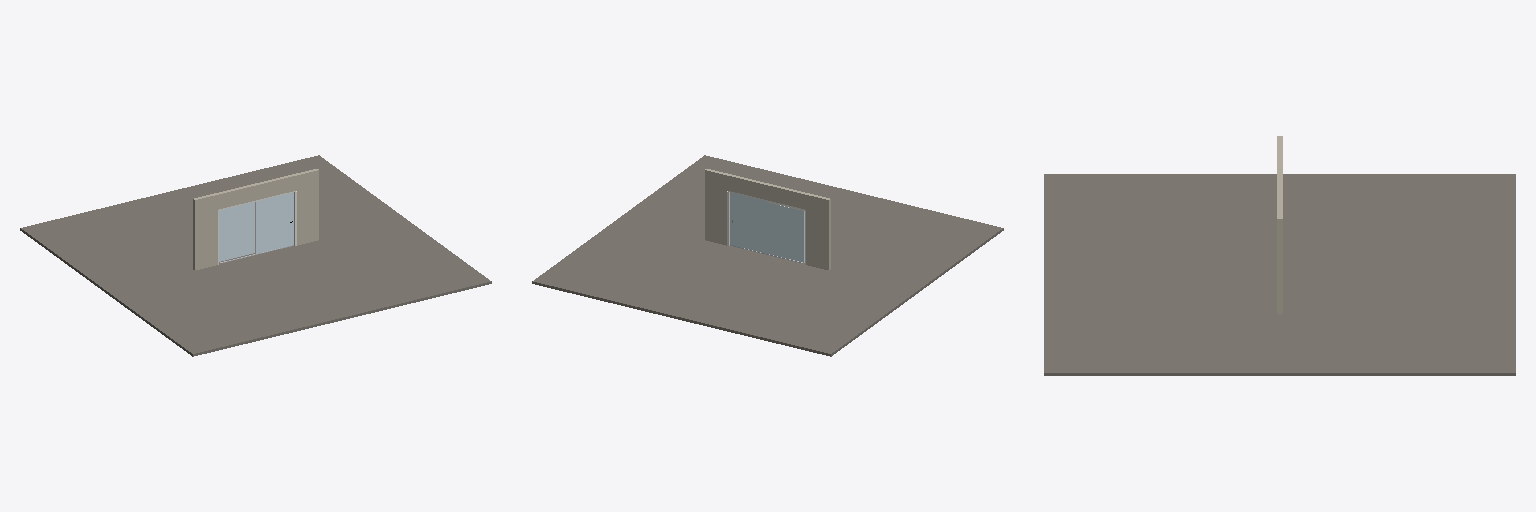
The robot description file, URDF, robot "db0620_sliding_single_minimal":
<?xml version="1.0" ?>
<robot xmlns:doorbench="https://github.com/adamraudonis/DoorBench/schema/urdf-ext" name="db0620_sliding_single_minimal">
  <link name="world_env">
    <visual name="floor_vis">
      <origin xyz="0 0 -0.05" rpy="0 0 0"/>
      <geometry>
        <box size="12 12 0.1"/>
      </geometry>
      <material name="mat_floor"/>
    </visual>
    <collision name="floor_col">
      <origin xyz="0 0 -0.05" rpy="0 0 0"/>
      <geometry>
        <box size="12 12 0.1"/>
      </geometry>
    </collision>
    <visual name="wall_left_vis">
      <origin xyz="-2.0275 0 1.35" rpy="0 0 0"/>
      <geometry>
        <box size="0.945 0.145 2.7"/>
      </geometry>
      <material name="mat_wall"/>
    </visual>
    <collision name="wall_left_col">
      <origin xyz="-2.0275 0 1.35" rpy="0 0 0"/>
      <geometry>
        <box size="0.945 0.145 2.7"/>
      </geometry>
    </collision>
    <visual name="wall_right_vis">
      <origin xyz="2.0575 0 1.35" rpy="0 0 0"/>
      <geometry>
        <box size="0.885 0.145 2.7"/>
      </geometry>
      <material name="mat_wall"/>
    </visual>
    <collision name="wall_right_col">
      <origin xyz="2.0575 0 1.35" rpy="0 0 0"/>
      <geometry>
        <box size="0.885 0.145 2.7"/>
      </geometry>
    </collision>
    <visual name="wall_header_vis">
      <origin xyz="0.03 0 2.411" rpy="0 0 0"/>
      <geometry>
        <box size="3.17 0.145 0.578"/>
      </geometry>
      <material name="mat_wall"/>
    </visual>
    <collision name="wall_header_col">
      <origin xyz="0.03 0 2.411" rpy="0 0 0"/>
      <geometry>
        <box size="3.17 0.145 0.578"/>
      </geometry>
    </collision>
    <visual name="jamb_l_vis">
      <origin xyz="-1.5325 0 1.0385" rpy="0 0 0"/>
      <geometry>
        <box size="0.045 0.145 2.077"/>
      </geometry>
      <material name="mat_frame"/>
    </visual>
    <collision name="jamb_l_col">
      <origin xyz="-1.5325 0 1.0385" rpy="0 0 0"/>
      <geometry>
        <box size="0.045 0.145 2.077"/>
      </geometry>
    </collision>
    <visual name="jamb_head_vis">
      <origin xyz="0 0 2.0995" rpy="0 0 0"/>
      <geometry>
        <box size="3.11 0.145 0.045"/>
      </geometry>
      <material name="mat_frame"/>
    </visual>
    <collision name="jamb_head_col">
      <origin xyz="0 0 2.0995" rpy="0 0 0"/>
      <geometry>
        <box size="3.11 0.145 0.045"/>
      </geometry>
    </collision>
    <visual name="fixed_panel_glass_vis">
      <origin xyz="-0.755 0.04 1.0385" rpy="0 0 0"/>
      <geometry>
        <box size="1.47 0.006 1.977"/>
      </geometry>
      <material name="mat_fixed_glass"/>
    </visual>
    <collision name="fixed_panel_glass_col">
      <origin xyz="-0.755 0.04 1.0385" rpy="0 0 0"/>
      <geometry>
        <box size="1.47 0.006 1.977"/>
      </geometry>
    </collision>
    <visual name="bottom_rail_vis">
      <origin xyz="0.065 0 0.012" rpy="0 0 0"/>
      <geometry>
        <box size="2.98 0.04 0.024"/>
      </geometry>
      <material name="mat_track"/>
    </visual>
    <collision name="bottom_rail_col">
      <origin xyz="0.065 0 0.012" rpy="0 0 0"/>
      <geometry>
        <box size="2.98 0.04 0.024"/>
      </geometry>
    </collision>
    <visual name="leaf_hook_keeper_vis">
      <origin xyz="1.523 0 0.95" rpy="0 0 0"/>
      <geometry>
        <box size="0.016 0.03 0.012"/>
      </geometry>
      <material name="mat_hook"/>
    </visual>
    <collision name="leaf_hook_keeper_col">
      <origin xyz="1.523 0 0.95" rpy="0 0 0"/>
      <geometry>
        <box size="0.016 0.03 0.012"/>
      </geometry>
    </collision>
    <visual name="jamb_latch_pwall_950_n_vis">
      <origin xyz="1.5625 -0.0505 0.95" rpy="0 0 0"/>
      <geometry>
        <box size="0.105 0.044 0.12"/>
      </geometry>
      <material name="mat_frame"/>
    </visual>
    <collision name="jamb_latch_pwall_950_n_col">
      <origin xyz="1.5625 -0.0505 0.95" rpy="0 0 0"/>
      <geometry>
        <box size="0.105 0.044 0.12"/>
      </geometry>
    </collision>
    <visual name="jamb_latch_pwall_950_p_vis">
      <origin xyz="1.5625 0.0505 0.95" rpy="0 0 0"/>
      <geometry>
        <box size="0.105 0.044 0.12"/>
      </geometry>
      <material name="mat_frame"/>
    </visual>
    <collision name="jamb_latch_pwall_950_p_col">
      <origin xyz="1.5625 0.0505 0.95" rpy="0 0 0"/>
      <geometry>
        <box size="0.105 0.044 0.12"/>
      </geometry>
    </collision>
    <visual name="jamb_latch_pback_950_vis">
      <origin xyz="1.611 0 0.95" rpy="0 0 0"/>
      <geometry>
        <box size="0.008 0.057 0.12"/>
      </geometry>
      <material name="mat_frame"/>
    </visual>
    <collision name="jamb_latch_pback_950_col">
      <origin xyz="1.611 0 0.95" rpy="0 0 0"/>
      <geometry>
        <box size="0.008 0.057 0.12"/>
      </geometry>
    </collision>
    <visual name="jamb_latch_0_vis">
      <origin xyz="1.5625 0 0.445" rpy="0 0 0"/>
      <geometry>
        <box size="0.105 0.145 0.89"/>
      </geometry>
      <material name="mat_frame"/>
    </visual>
    <collision name="jamb_latch_0_col">
      <origin xyz="1.5625 0 0.445" rpy="0 0 0"/>
      <geometry>
        <box size="0.105 0.145 0.89"/>
      </geometry>
    </collision>
    <visual name="jamb_latch_1_vis">
      <origin xyz="1.5625 0 1.5435" rpy="0 0 0"/>
      <geometry>
        <box size="0.105 0.145 1.067"/>
      </geometry>
      <material name="mat_frame"/>
    </visual>
    <collision name="jamb_latch_1_col">
      <origin xyz="1.5625 0 1.5435" rpy="0 0 0"/>
      <geometry>
        <box size="0.105 0.145 1.067"/>
      </geometry>
    </collision>
  </link>
  <link name="leaf">
    <inertial>
      <origin xyz="0.000028 0.000001 1.045996" rpy="0 0 0"/>
      <mass value="213.938984"/>
      <inertia ixx="73.646349978" ixy="-0.000137328" ixz="0.000573197" iyy="113.726050269" iyz="0.000019975" izz="40.151911218"/>
    </inertial>
    <visual name="leaf_glass_vis">
      <origin xyz="0 0 1.046" rpy="0 0 0"/>
      <geometry>
        <box size="1.5 0.045 2.032"/>
      </geometry>
      <material name="mat_glass_leaf"/>
    </visual>
    <collision name="leaf_glass_col">
      <origin xyz="0 0 1.046" rpy="0 0 0"/>
      <geometry>
        <box size="1.5 0.045 2.032"/>
      </geometry>
    </collision>
    <visual name="leaf_ext_pull_p_vis">
      <origin xyz="0.66 0.023 0.95" rpy="0 0 0"/>
      <geometry>
        <box size="0.05 0.001 0.1"/>
      </geometry>
      <material name="mat_op_nickel_satin"/>
    </visual>
  </link>
  <link name="leaf_handle">
    <inertial>
      <origin xyz="-0.019728 -0.054475 0" rpy="0 0 0"/>
      <mass value="0.376588"/>
      <inertia ixx="0.000191364" ixy="-0.000171062" ixz="0" iyy="0.000493082" iyz="0" izz="0.000632621"/>
    </inertial>
    <visual name="leaf_handle_lever_n_vis">
      <origin xyz="0 -0.0225 0" rpy="1.570796 0 0"/>
      <geometry>
        <mesh filename="../../hardware/lever_57205841c3.obj"/>
      </geometry>
      <material name="mat_op_black_matte_metal"/>
    </visual>
    <collision name="leaf_handle_lever_col_n_col">
      <origin xyz="-0.06 -0.0775 0" rpy="0 -1.570796 0"/>
      <geometry>
        <cylinder radius="0.007" length="0.106"/>
      </geometry>
    </collision>
    <collision name="leaf_handle_hub_col_n_col">
      <origin xyz="0 -0.0525 0" rpy="-1.570796 0 0"/>
      <geometry>
        <cylinder radius="0.012" length="0.044"/>
      </geometry>
    </collision>
  </link>
  <link name="leaf_hook">
    <inertial>
      <origin xyz="0.026737 0 -0.009263" rpy="0 0 0"/>
      <mass value="0.072048"/>
      <inertia ixx="0.000008186" ixy="0" ixz="-0.000004496" iyy="0.000019175" iyz="0" izz="0.00001219"/>
    </inertial>
    <visual name="leaf_hook_arm_vis">
      <origin xyz="0.02 0 -0.016" rpy="0 0 0"/>
      <geometry>
        <box size="0.044 0.01 0.012"/>
      </geometry>
      <material name="mat_hook"/>
    </visual>
    <collision name="leaf_hook_arm_col">
      <origin xyz="0.02 0 -0.016" rpy="0 0 0"/>
      <geometry>
        <box size="0.044 0.01 0.012"/>
      </geometry>
    </collision>
    <visual name="leaf_hook_tip_vis">
      <origin xyz="0.036 0 0" rpy="0 0 0"/>
      <geometry>
        <box size="0.012 0.01 0.032"/>
      </geometry>
      <material name="mat_hook"/>
    </visual>
    <collision name="leaf_hook_tip_col">
      <origin xyz="0.036 0 0" rpy="0 0 0"/>
      <geometry>
        <box size="0.012 0.01 0.032"/>
      </geometry>
    </collision>
  </link>
  <joint name="leaf_slide" type="prismatic">
    <origin xyz="0.755 0 0" rpy="0 0 0"/>
    <parent link="world_env"/>
    <child link="leaf"/>
    <axis xyz="-1 0 0"/>
    <limit lower="0" upper="1.38" effort="5000" velocity="10"/>
    <dynamics damping="12.722089" friction="883.241286"/>
  </joint>
  <joint name="leaf_handle_hinge" type="revolute">
    <origin xyz="0.69 0 0.95" rpy="0 0 0"/>
    <parent link="leaf"/>
    <child link="leaf_handle"/>
    <axis xyz="0 -1 0"/>
    <limit lower="0" upper="0.87" effort="2000" velocity="10"/>
    <dynamics damping="0.206307" friction="0.042"/>
    <doorbench:spring stiffness="1" springref="-0.35" note="tau = -stiffness*(q - springref); not native URDF"/>
  </joint>
  <joint name="leaf_hook_hinge" type="revolute">
    <origin xyz="0.75 0 0.95" rpy="0 0 0"/>
    <parent link="leaf"/>
    <child link="leaf_hook"/>
    <axis xyz="0 1 0"/>
    <limit lower="0" upper="1" effort="2000" velocity="10"/>
    <dynamics damping="0.05" friction="0.1"/>
    <mimic joint="leaf_handle_hinge" multiplier="1" offset="0"/>
  </joint>
  <material name="mat_fixed_glass">
    <color rgba="0.85 0.92 0.95 0.25"/>
  </material>
  <material name="mat_floor">
    <color rgba="0.55 0.53 0.5 1"/>
  </material>
  <material name="mat_frame">
    <color rgba="0.92 0.92 0.9 1"/>
  </material>
  <material name="mat_glass_leaf">
    <color rgba="0.85 0.92 0.95 0.25"/>
  </material>
  <material name="mat_hook">
    <color rgba="0.75 0.76 0.77 1"/>
  </material>
  <material name="mat_op_black_matte_metal">
    <color rgba="0.05 0.05 0.05 1"/>
  </material>
  <material name="mat_op_nickel_satin">
    <color rgba="0.72 0.7 0.66 1"/>
  </material>
  <material name="mat_track">
    <color rgba="0.8 0.81 0.83 1"/>
  </material>
  <material name="mat_wall">
    <color rgba="0.78 0.76 0.7 1"/>
  </material>
</robot>

--- What the picture shows (computed from the rendered views, not written in the file) ---
The picture shows the robot from 3 angles, left to right: view 1: azimuth 30°, elevation 25°; view 2: azimuth 150°, elevation 25°; view 3: azimuth 270°, elevation 25°; orthographic projection.
Robot: db0620_sliding_single_minimal — 4 links, 3 joints (2 revolute, 1 prismatic); root link world_env; default pose: all joints at 0.
Links seen in each view (by area): view 1: world_env, leaf; view 2: world_env, leaf; view 3: world_env.
Link boxes in pixels (<box>): world_env: <box>20,155,491,356</box>; leaf: <box>256,192,293,253</box>; world_env: <box>532,155,1003,356</box>; leaf: <box>730,192,767,253</box>; world_env: <box>1044,136,1515,375</box>.
Size in the robot's own frame: 12 by 12 by 2.8 metres.
1 mesh visuals loaded from 1 distinct referenced files (1 OBJ).
